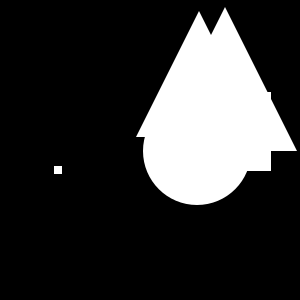circle: (192, 92, 271, 171), (54, 166, 62, 174)
rectangle: (143, 97, 251, 205)
triangle: (153, 7, 297, 151), (136, 11, 262, 137)
